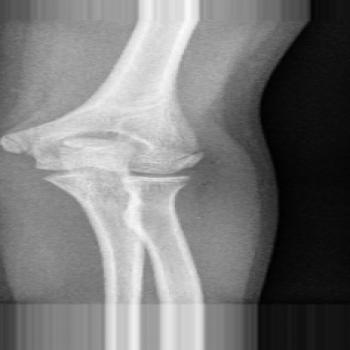Fracture: (168, 144, 210, 170)
